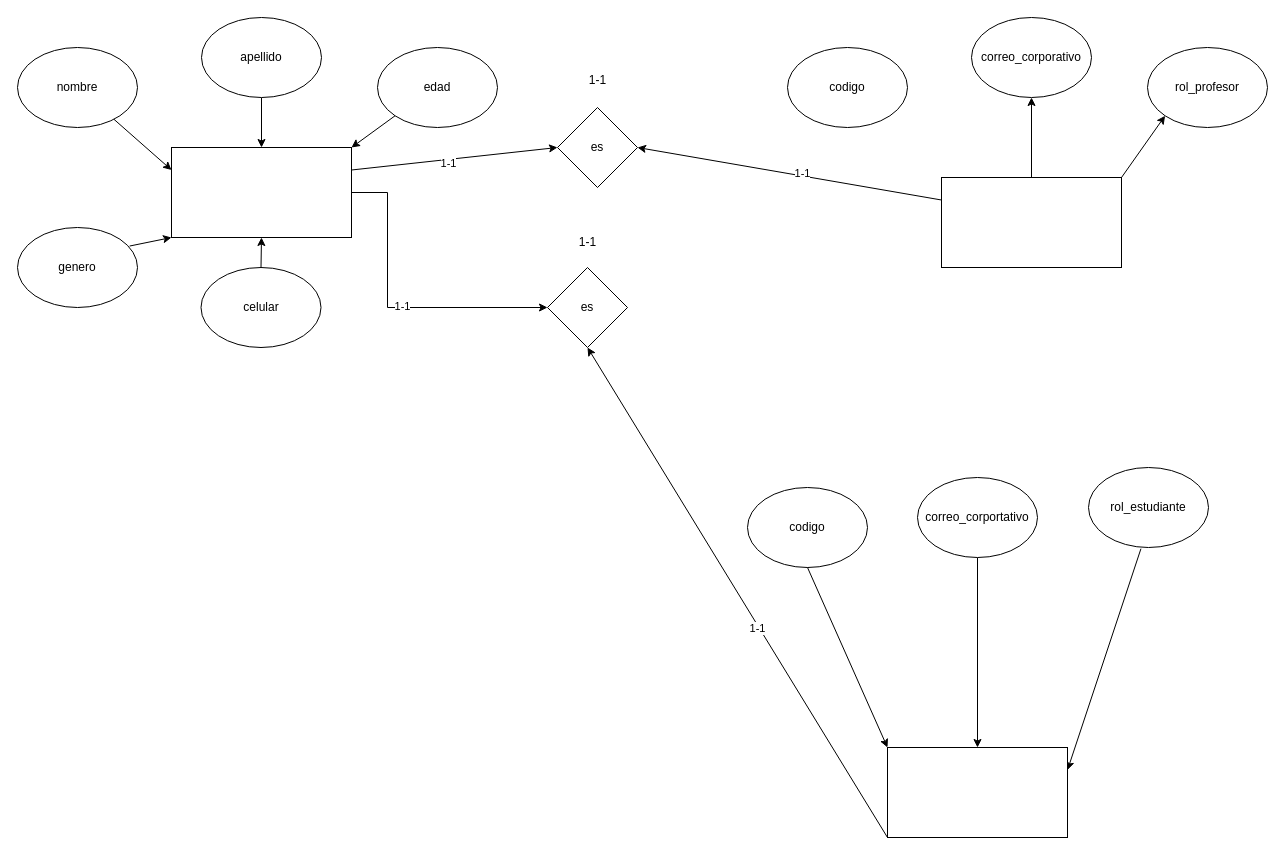
Image size: 1285x863. Some labels were removed from this diagram. The shapes that lost their labels are listed below. From the top down, each one's box as (x1, y1, x2, y2) in pixels, then its label:
(170, 146, 352, 238): persona
(940, 176, 1122, 268): profesor
(886, 746, 1068, 838): estudiante
